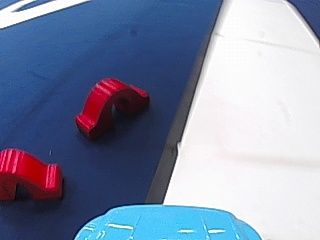bridge: (69, 73, 152, 141), (2, 144, 63, 204)
